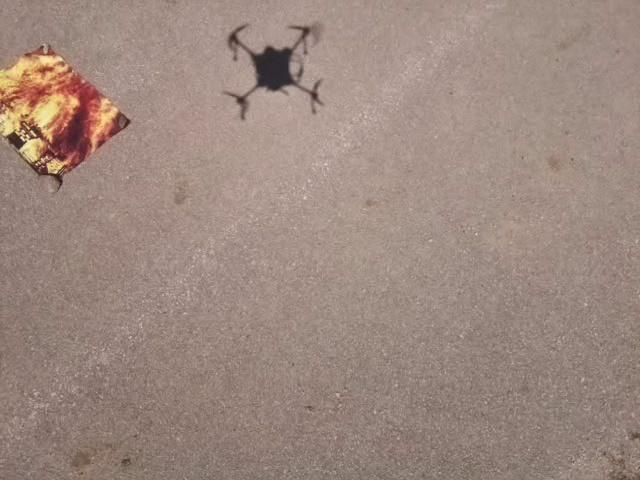fire-poster: (0, 41, 132, 193)
